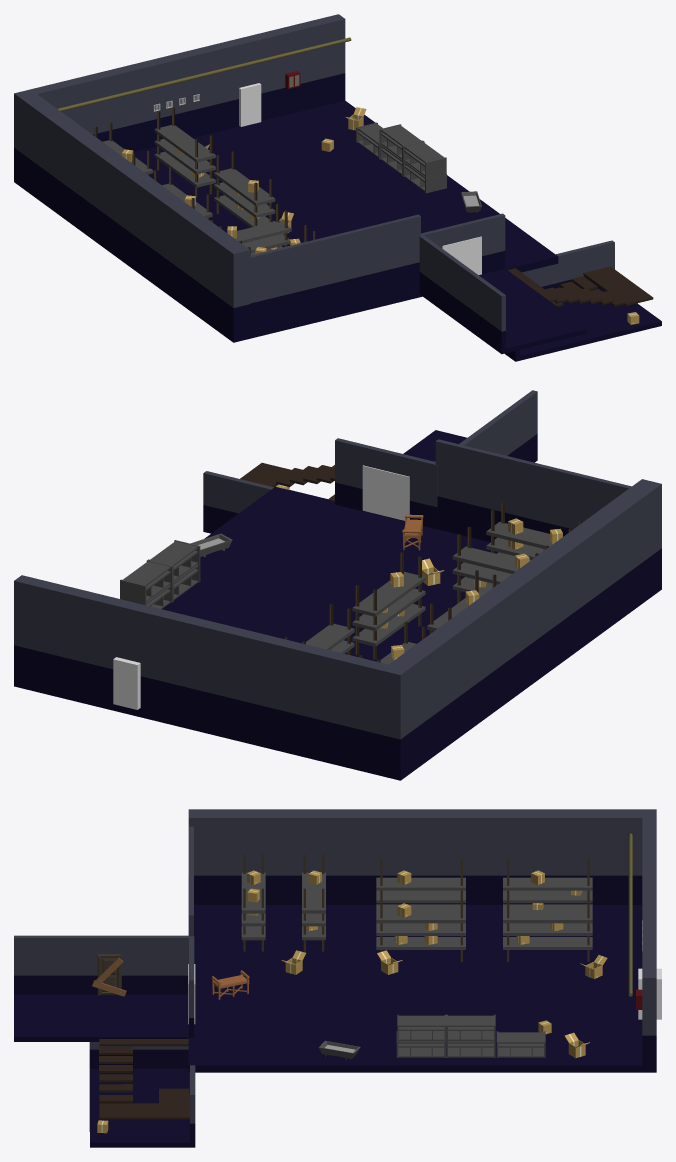
The model's file is room4yeni.fbx.
3 views of the same model, one above another, from view 1: azimuth 30°, elevation 25°; view 2: azimuth 150°, elevation 25°; view 3: azimuth 270°, elevation 25° (orthographic). The views are drawn at different scales.
Parts seen in each view (by area): view 1: Cube.001, Cube.002, Cube.003, Cube.049, Cube.008, Cube.010, Cube.011, Cylinder, Cube.042, Shelf_Small2.004, Cube.004, Cube (+5 smaller); view 2: Cube.001, Cube.002, Cube.003, Cube.010, Cube.049, Cube.011, Cube, Cube.012, Shelf_Small2.003, Cube.004, Cube.008, Shelf_Small2.004 (+3 smaller); view 3: Cube.001, Cube.003, Cube.049, Cube.008, Cube.010, Cube.009, Cube.007, Cube.011, Cube.012, Cube.042, Shelf_Small2.003, Shelf_Small2.004 (+9 smaller).
Boxes of the visible parts, <box> form: Cube.001: <box>14,14,558,342</box>; Cube.002: <box>250,214,420,331</box>; Cube.003: <box>419,213,587,354</box>; Cube.049: <box>505,240,661,361</box>; Cube.008: <box>154,108,215,198</box>; Cube.010: <box>214,151,275,227</box>; Cube.011: <box>210,204,291,254</box>; Cylinder: <box>57,37,351,111</box>; Cube.042: <box>583,266,653,305</box>; Shelf_Small2.004: <box>402,141,446,178</box>; Cube.004: <box>239,83,261,126</box>; Cube: <box>442,236,481,274</box>; Cube.001: <box>14,479,661,780</box>; Cube.002: <box>435,439,631,542</box>; Cube.003: <box>335,390,537,529</box>; Cube.010: <box>352,552,425,659</box>; Cube.049: <box>203,471,327,533</box>; Cube.011: <box>452,526,548,603</box>; Cube: <box>362,465,409,520</box>; Cube.012: <box>486,502,582,560</box>; Shelf_Small2.003: <box>120,560,172,604</box>; Cube.004: <box>113,657,140,709</box>; Cube.008: <box>284,604,354,655</box>; Shelf_Small2.004: <box>148,540,200,584</box>; Cube.001: <box>188,809,656,1072</box>; Cube.003: <box>14,935,194,1041</box>; Cube.049: <box>89,1042,195,1147</box>; Cube.008: <box>503,891,592,961</box>; Cube.010: <box>376,891,465,961</box>; Cube.009: <box>376,859,465,909</box>; Cube.007: <box>503,859,592,909</box>; Cube.011: <box>302,854,325,951</box>; Cube.012: <box>241,854,265,951</box>; Cube.042: <box>99,1103,189,1119</box>; Shelf_Small2.003: <box>446,1014,495,1042</box>; Shelf_Small2.004: <box>397,1014,446,1042</box>.
Size of the model in its own units: 6107 by 2003 by 8416.
